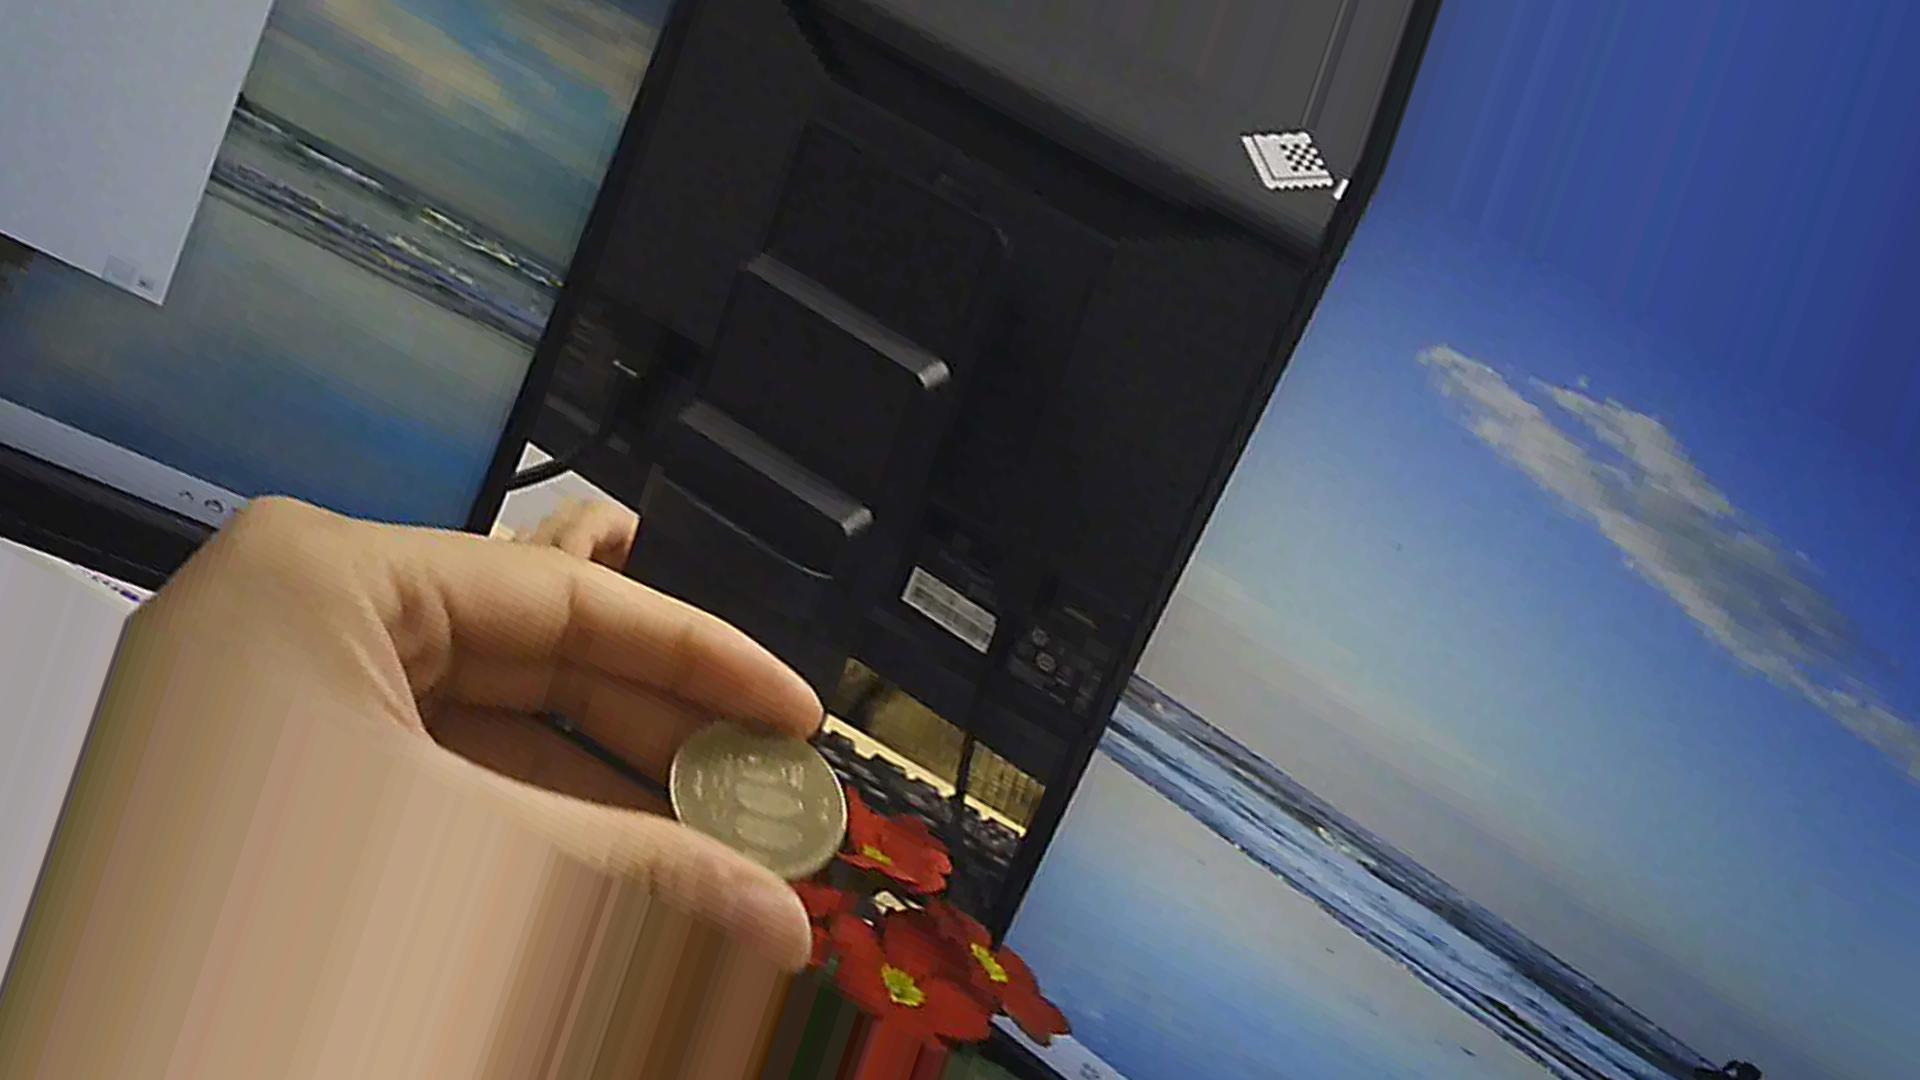500 Yen: (659, 707, 843, 893)
